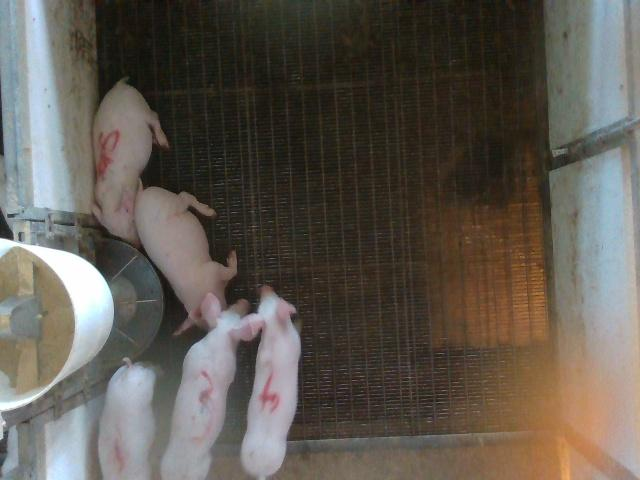pig-1: (99, 360, 156, 479)
pig-3: (161, 294, 256, 479)
pig-4: (241, 286, 301, 479)
pig-5: (92, 79, 169, 245)
